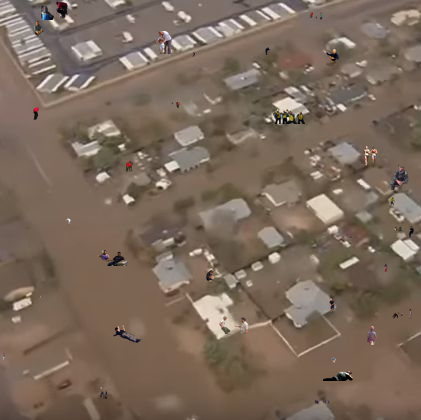Human: (219, 316, 249, 334), (112, 325, 142, 343), (363, 146, 388, 167), (389, 164, 409, 190), (41, 1, 68, 20), (273, 109, 307, 124), (97, 250, 128, 266), (317, 49, 339, 71), (155, 31, 172, 54), (323, 369, 353, 381), (363, 326, 377, 345), (394, 226, 414, 239), (309, 11, 329, 21), (392, 309, 412, 319), (33, 106, 46, 120), (33, 21, 44, 36), (206, 270, 215, 281), (125, 160, 133, 172), (324, 356, 336, 364), (100, 387, 108, 399), (329, 298, 335, 313), (166, 102, 180, 108), (315, 400, 330, 405), (390, 197, 395, 207), (65, 218, 71, 225), (265, 47, 270, 55), (384, 264, 388, 272), (2, 353, 5, 360), (192, 52, 195, 57), (38, 296, 42, 299), (349, 236, 352, 239)
